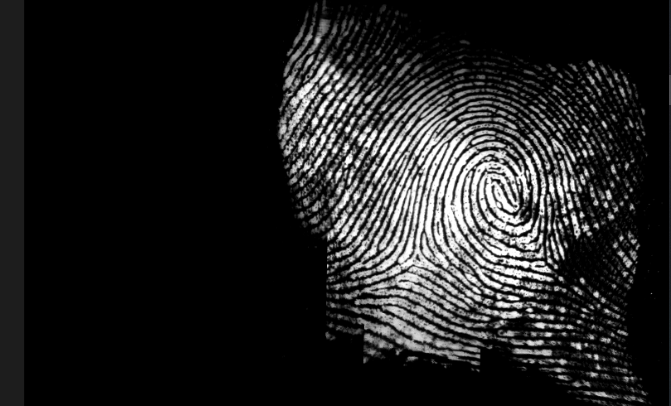nucelo: (476, 174, 521, 220)
verticilo: (400, 245, 431, 273), (530, 242, 560, 270)
